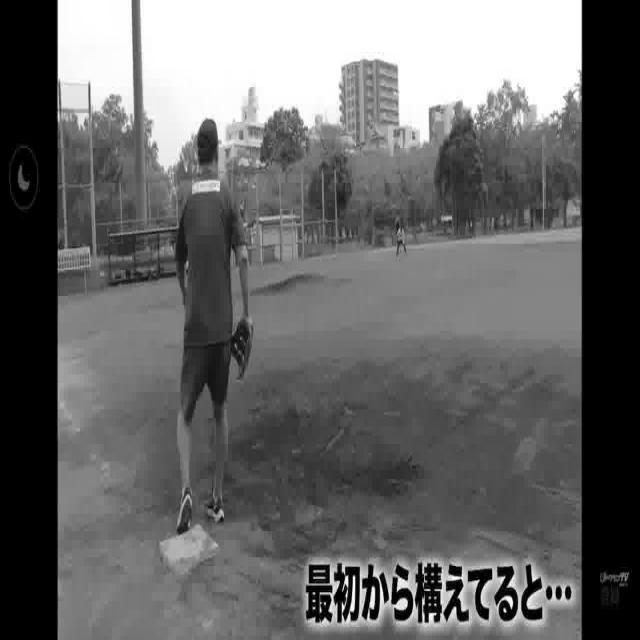base: (156, 524, 220, 580)
baseball_glove: (230, 317, 256, 383)
shoe: (196, 485, 228, 525), (175, 495, 194, 537)
